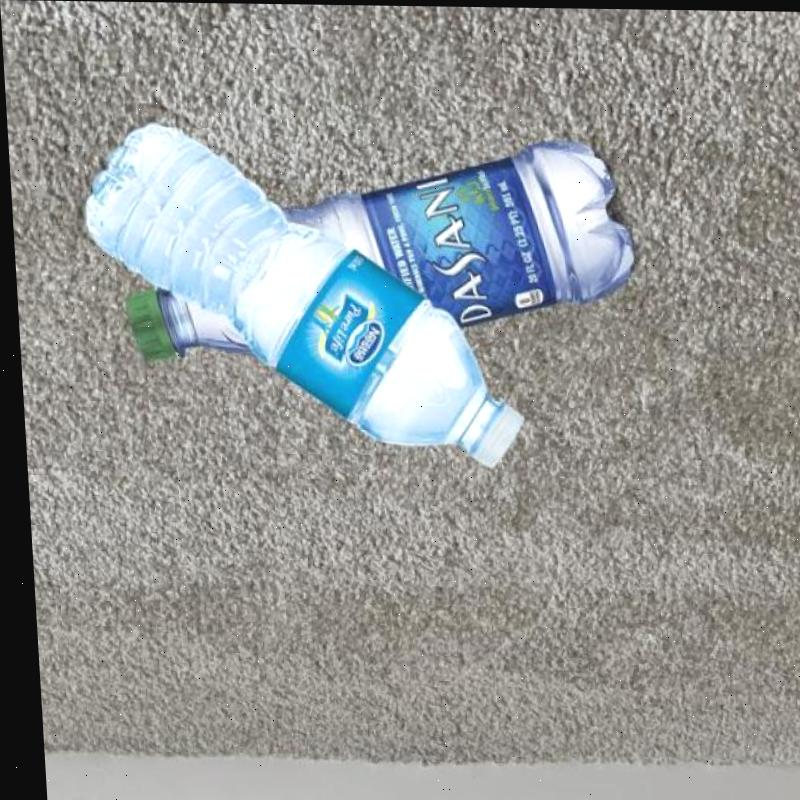botella: (75, 118, 526, 467), (114, 140, 635, 370)
